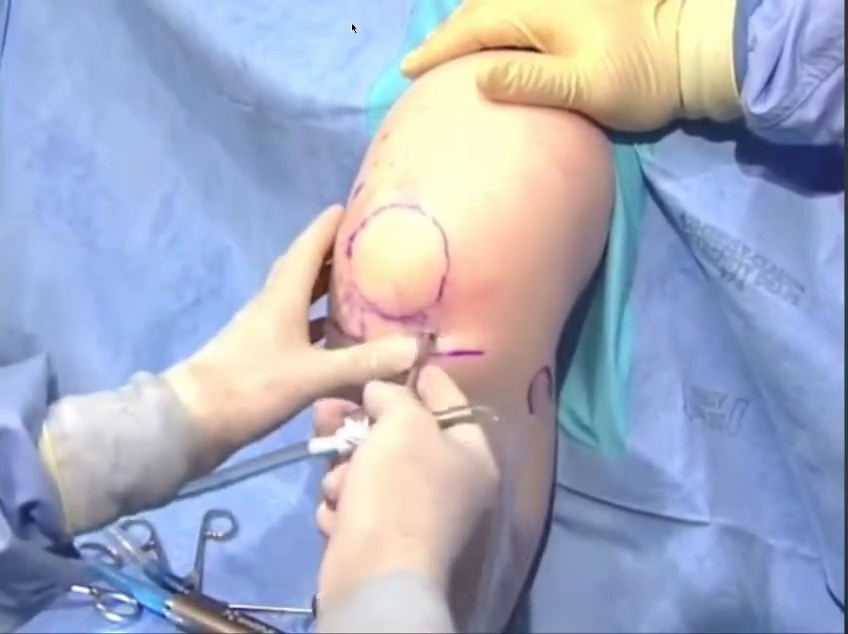arthroscope: (424, 35, 848, 634), (26, 146, 402, 507)
probe: (726, 153, 848, 619), (619, 0, 848, 163), (97, 134, 209, 245)
